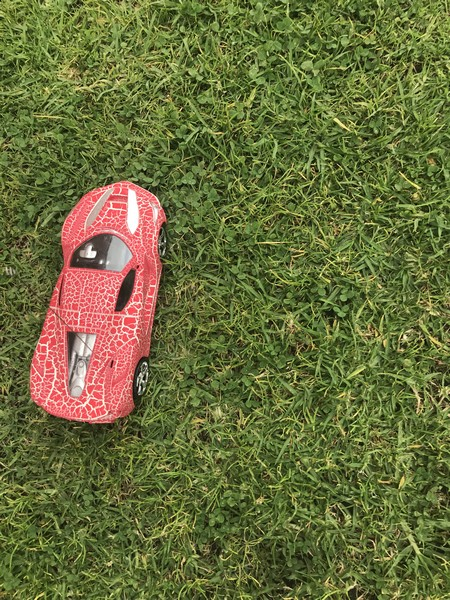RC: (27, 180, 173, 428)
